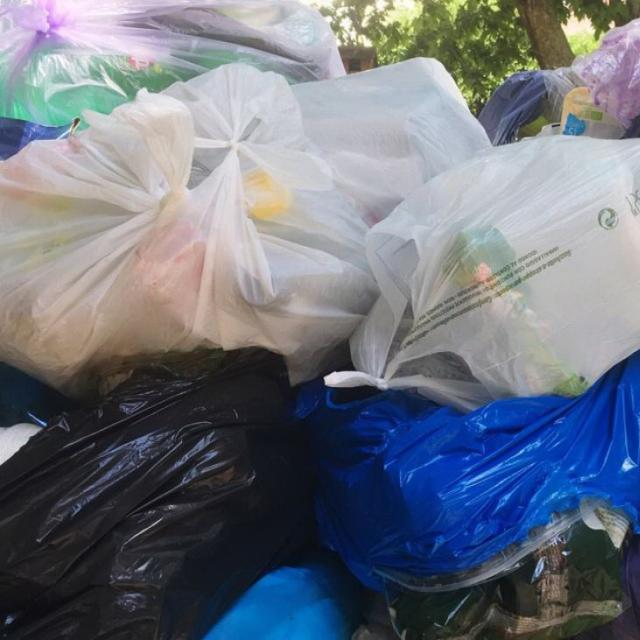Single-layer Plastic: (0, 65, 378, 394), (0, 350, 314, 640), (326, 136, 640, 410), (308, 351, 640, 589), (0, 0, 345, 87)
